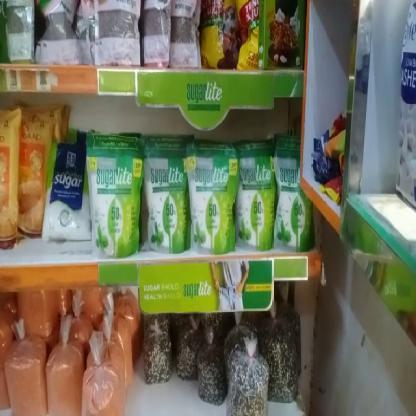SUGARLITE POUCH 500G: (88, 152, 143, 254), (189, 158, 238, 250), (143, 156, 187, 253), (236, 162, 277, 247), (276, 156, 303, 246)
